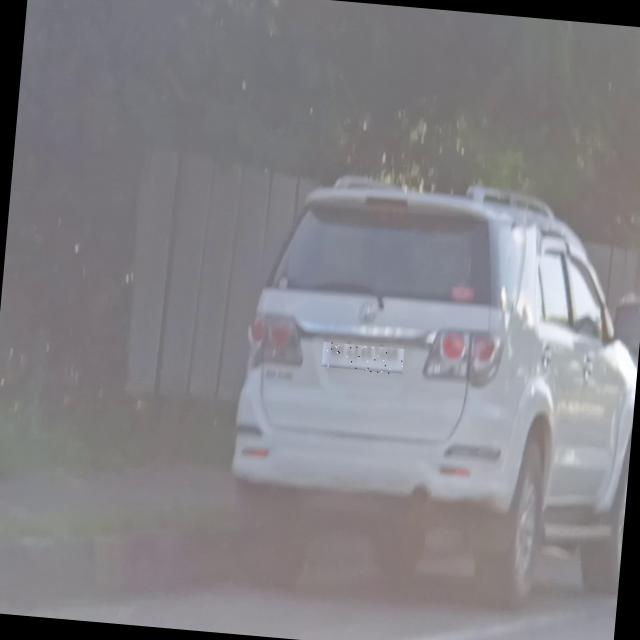Plate: (322, 343, 405, 376)
